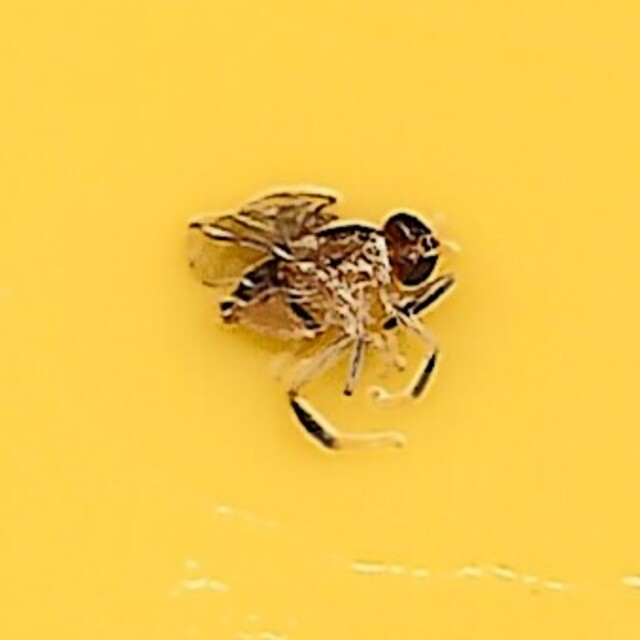Brachycera: (189, 194, 451, 446)
